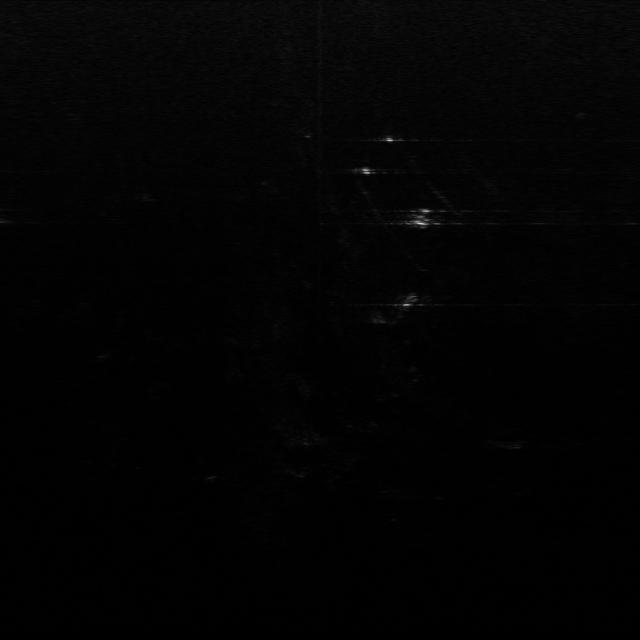rov: (408, 205, 443, 229)
